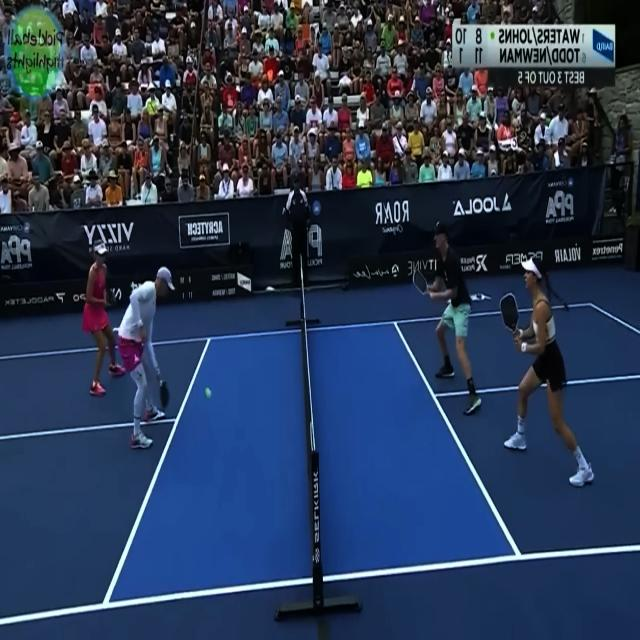Pickleball: (204, 384, 213, 401)
